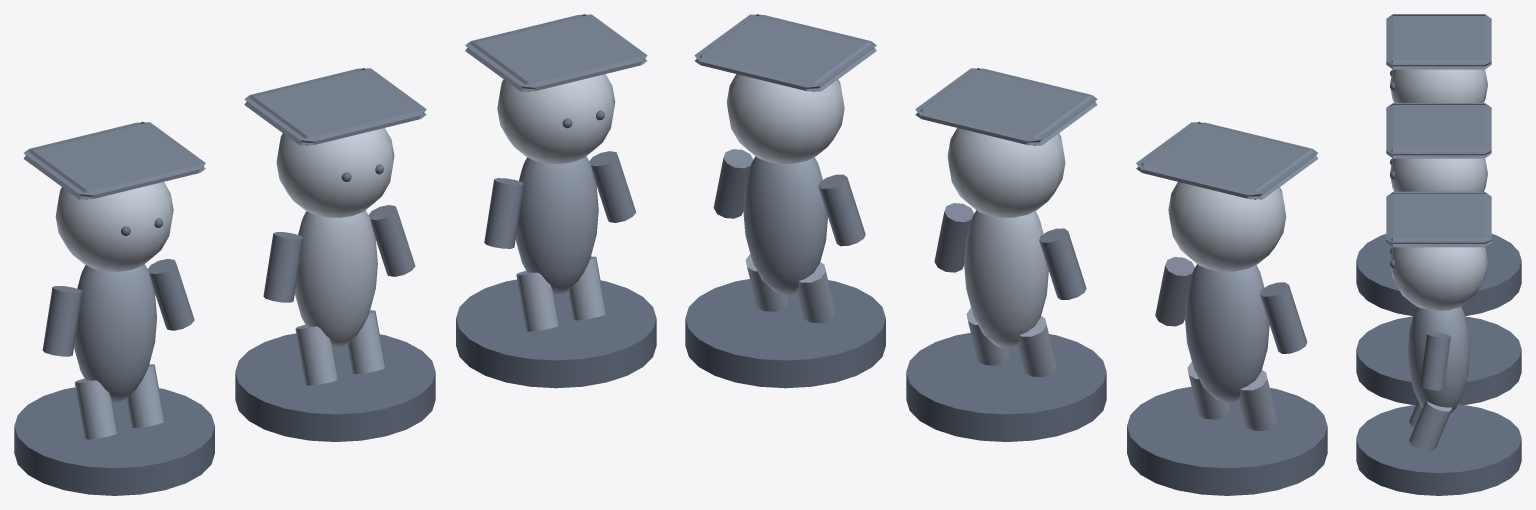
File: figurine-set.glb
The picture shows the model from 3 angles, left to right: view 1: azimuth 30°, elevation 25°; view 2: azimuth 150°, elevation 25°; view 3: azimuth 270°, elevation 25°; orthographic projection. The views are drawn at different scales.
Visible parts, largest first — view 1: dark, accent, body, light, soft; view 2: dark, accent, body, light, soft; view 3: dark, accent, light, body.
Boxes of the visible parts, x1,y1,x2,y2 form: dark: (14, 110, 656, 495); accent: (23, 14, 647, 356); body: (74, 156, 606, 439); light: (55, 74, 615, 271); soft: (295, 210, 377, 348); dark: (685, 279, 1327, 495); accent: (694, 14, 1318, 353); body: (743, 156, 1277, 430); light: (726, 74, 1286, 271); soft: (964, 210, 1048, 348); dark: (1356, 69, 1521, 495); accent: (1386, 14, 1491, 390); light: (1390, 69, 1487, 310); body: (1408, 306, 1469, 451).
Bounding box in the file's own units: 0.418 × 0.1933 × 0.118.
